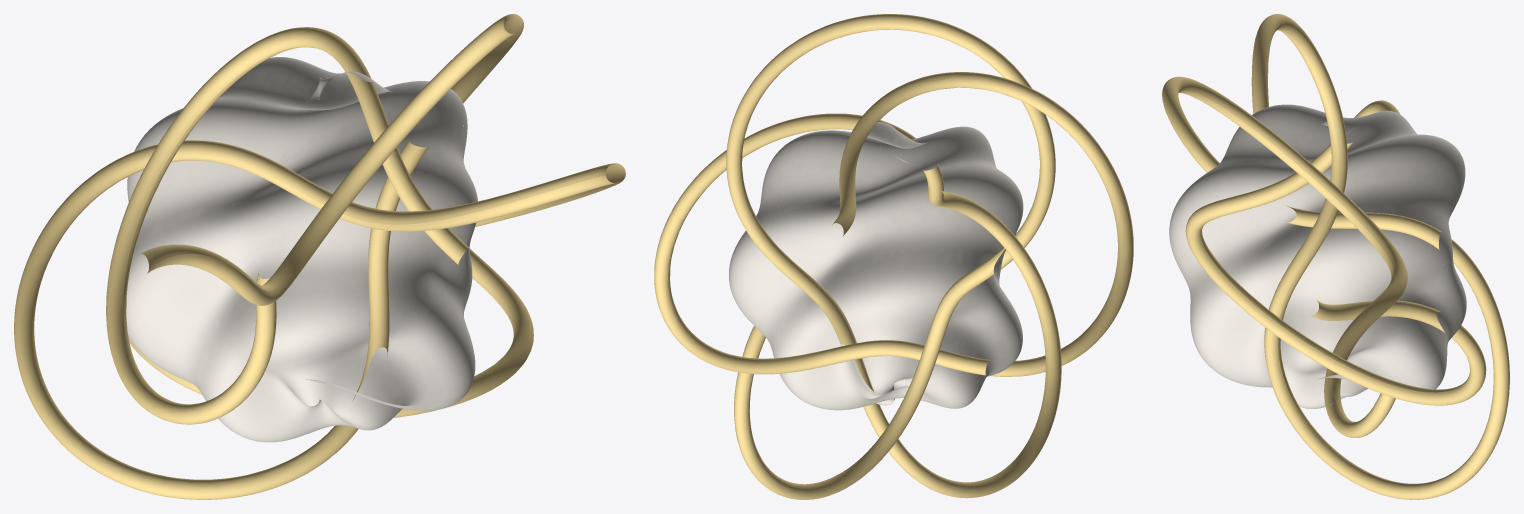
Rendered from sculpture.glb.
3 views of the same model, side by side, from view 1: azimuth 30°, elevation 25°; view 2: azimuth 150°, elevation 25°; view 3: azimuth 270°, elevation 25° (orthographic). The views are drawn at different scales.
Visible parts, largest first — view 1: Body, Orbit; view 2: Body, Orbit; view 3: Body, Orbit.
Boxes of the visible parts, bbox=[...] form: Body: bbox=[126, 57, 477, 442]; Orbit: bbox=[14, 14, 625, 499]; Body: bbox=[729, 122, 1023, 410]; Orbit: bbox=[654, 14, 1133, 499]; Body: bbox=[1169, 104, 1466, 408]; Orbit: bbox=[1162, 14, 1509, 499].
Bounding box in the file's own units: 3.7 × 3.24 × 2.56.
